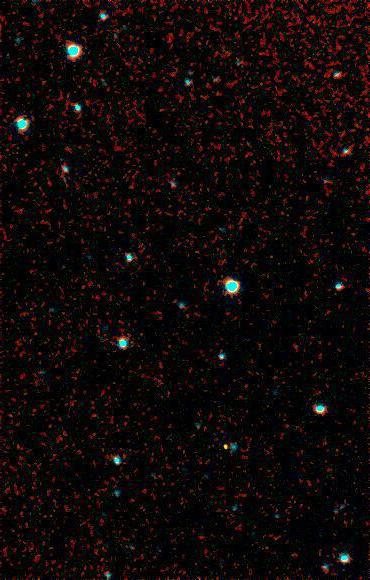star: (209, 430, 239, 460)
